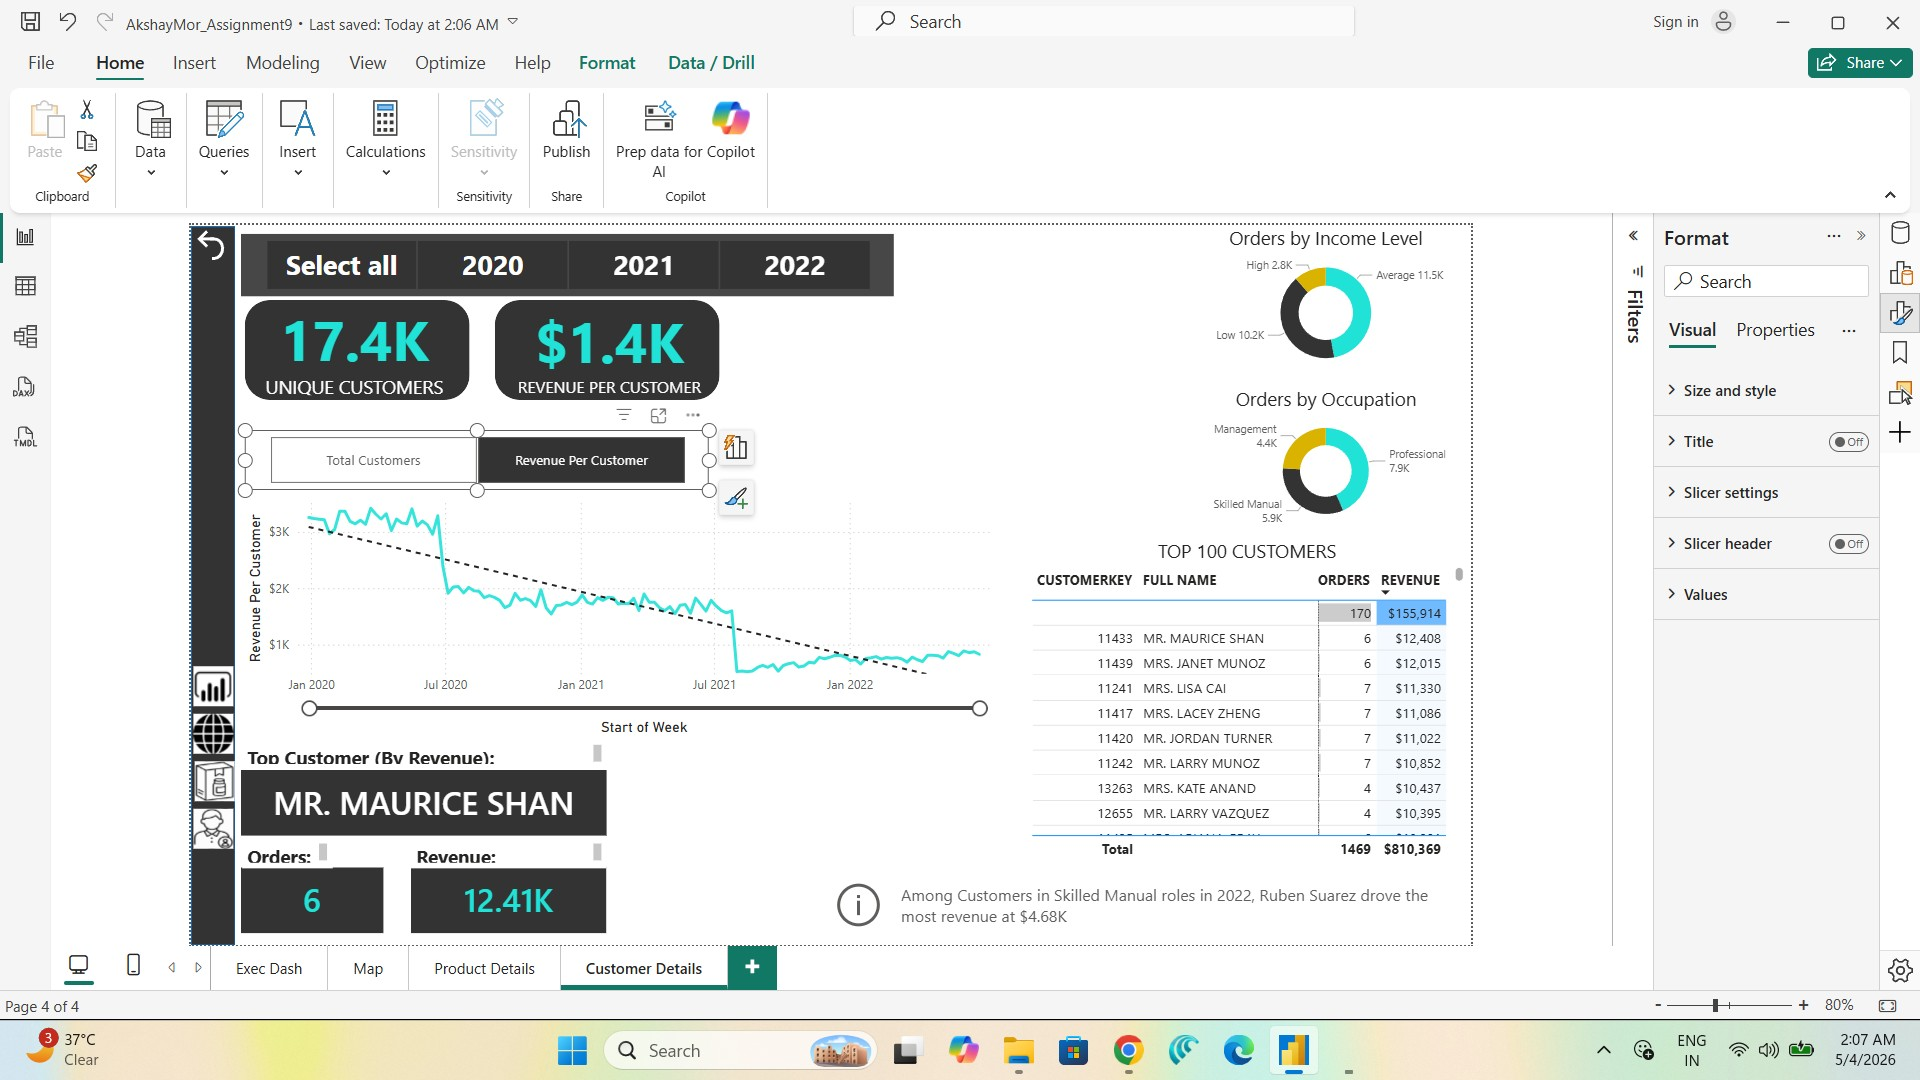

Layout of this report page (visuals, bound fields, positions):
{"tool":"powerbi","page":{"name":"Customer Details","canvas":[1280,720],"ordinal":3},"visuals":[{"type":"shape","box":[303.9,74.9,225,100],"z":0,"group":"g1"},{"type":"actionButton","box":[0,441.9,45,40],"z":0,"group":"g2"},{"type":"card","fields":{"Values":["Table Measure.Full Name (Customer Detail)"]},"box":[50.2,544.7,365.7,65.6],"z":0},{"type":"shape","box":[53.5,74.9,225,100],"z":1000,"group":"g1"},{"type":"group","id":"g1","title":"KPI Cards","box":[53.5,74.9,475.4,100],"z":1000},{"type":"actionButton","box":[1.4,537.1,45,40],"z":1000,"group":"g2"},{"type":"card","fields":{"Values":["Table Measure.Average Revenue Per Customer"]},"box":[309.1,74.9,219.8,100],"z":2000},{"type":"actionButton","box":[0,584.8,45,40],"z":2000,"group":"g2"},{"type":"actionButton","box":[0,489.5,45,40],"z":3000,"group":"g2"},{"type":"textbox","box":[51.7,515.4,364.3,29.3],"z":3000},{"type":"card","fields":{"Values":["Table Measure.Total Customers"]},"box":[53.9,74.9,219.8,100],"z":4000},{"type":"lineChart","title":"CUSTOMER TRENDS","fields":{"Category":["Calendar Lookup.Start of Year","Calendar Lookup.Start of Quarter","Calendar Lookup.Start of Month","Calendar Lookup.Start of Week"],"Y":["Table Measure.Average Revenue Per Customer"]},"box":[51.2,265,766.2,250],"z":5000},{"type":"card","fields":{"Values":["Table Measure.Total Orders (Customer Detail)"]},"box":[50.2,642.6,142.1,65.6],"z":6000},{"type":"donutChart","title":"Orders by Income Level","fields":{"Category":["Customer Lookup.Income Level"],"Y":["Table Measure.Total Orders"]},"box":[992.5,0,285,151.2],"z":7000},{"type":"card","fields":{"Values":["Table Measure.Total Revenue (Customer Detail)"]},"box":[220.4,642.6,195.5,65.6],"z":8000},{"type":"textbox","box":[51.7,613.3,90,29.3],"z":9000},{"type":"donutChart","title":"Orders by Occupation","fields":{"Category":["Customer Lookup.Occupation"],"Y":["Table Measure.Total Orders"]},"box":[992.9,161.2,285,145],"z":10000},{"type":"textbox","box":[220.4,613.3,195.5,29.3],"z":11000},{"type":"tableEx","title":"TOP 100 CUSTOMERS","fields":{"Values":["Customer Lookup.CustomerKey","Customer Lookup.Full Name","Table Measure.Total Orders","Table Measure.Total Revenue"]},"box":[835.4,312.4,442.5,327.5],"z":12000},{"type":"slicer","fields":{"Values":["Calendar Lookup.Year"]},"box":[50.3,8.8,652.5,62.5],"z":13000},{"type":"actionButton","box":[640,652.5,625,55],"z":14000},{"type":"shape","box":[0,1.4,44.3,719],"z":15000},{"type":"actionButton","box":[0,0,44.3,40],"z":16000},{"type":"group","id":"g2","title":"Navigation Buttons","box":[0,441.9,46.4,182.9],"z":17000},{"type":"slicer","fields":{"Values":["Customer Metric Solution.Customer Metric Solution"]},"box":[53.8,205,463.8,60],"z":17001}]}

Visuals, with their boxes on the page's 1280x720 design canvas (x1, y1, x2, y2). These are canvas units, not pixel positions in the 1920x1080 screenshot, which may show the page scaled, cropped or inside an application window:
shape: 304:75:529:175
actionButton: 0:442:45:482
card - Table Measure.Full Name (Customer Detail): 50:545:416:610
shape: 54:75:278:175
"KPI Cards" group: 54:75:529:175
actionButton: 1:537:46:577
card - Table Measure.Average Revenue Per Customer: 309:75:529:175
actionButton: 0:585:45:625
actionButton: 0:490:45:530
textbox: 52:515:416:545
card - Table Measure.Total Customers: 54:75:274:175
"CUSTOMER TRENDS" lineChart: 51:265:817:515
card - Table Measure.Total Orders (Customer Detail): 50:643:192:708
"Orders by Income Level" donutChart: 992:0:1278:151
card - Table Measure.Total Revenue (Customer Detail): 220:643:416:708
textbox: 52:613:142:643
"Orders by Occupation" donutChart: 993:161:1278:306
textbox: 220:613:416:643
"TOP 100 CUSTOMERS" tableEx: 835:312:1278:640
slicer - Calendar Lookup.Year: 50:9:703:71
actionButton: 640:652:1265:708
shape: 0:1:44:720
actionButton: 0:0:44:40
"Navigation Buttons" group: 0:442:46:625
slicer - Customer Metric Solution.Customer Metric Solution: 54:205:518:265
